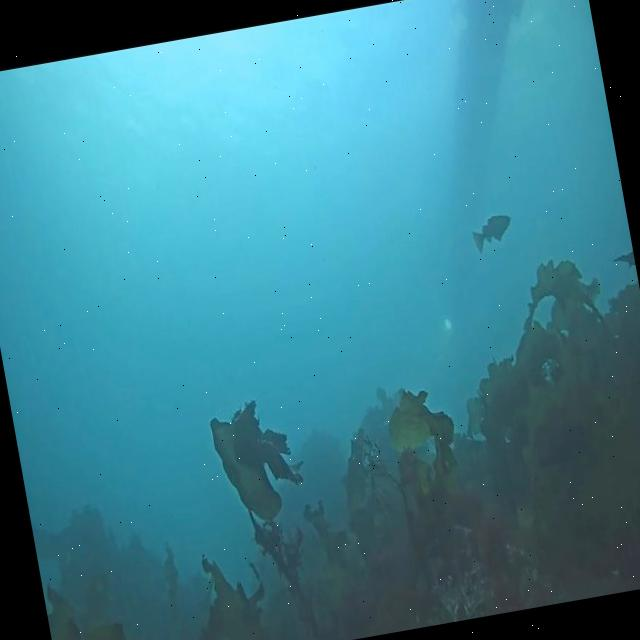fish: (470, 211, 515, 252)
